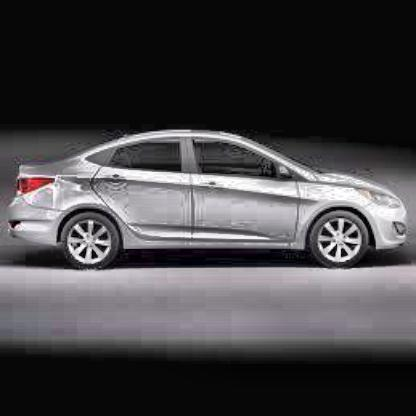Hyundai Accent Sedan 2012: (9, 127, 410, 274)
